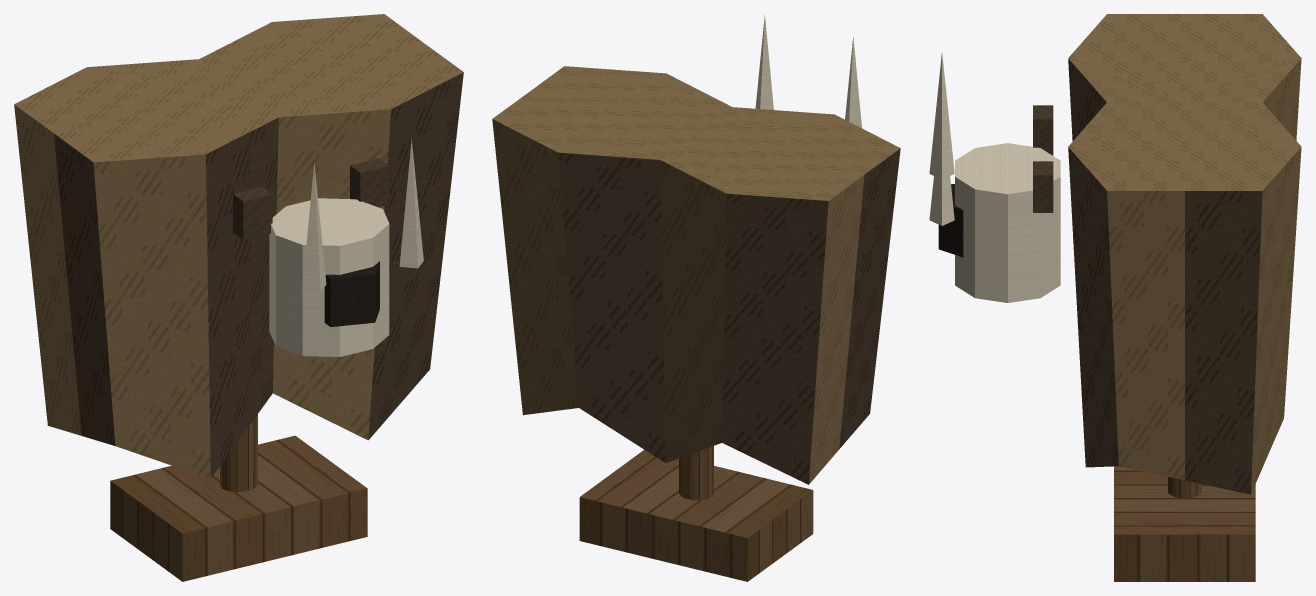
File: ae_raid_trophy_pelt_lod0.glb
3 renders of one model, left to right at view 1: azimuth 30°, elevation 25°; view 2: azimuth 150°, elevation 25°; view 3: azimuth 270°, elevation 25°, orthographic. The views are drawn at different scales.
Parts seen in each view (by area): view 1: ae_raid_trophy_pelt_lod0; view 2: ae_raid_trophy_pelt_lod0; view 3: ae_raid_trophy_pelt_lod0.
Part boxes in pixels (left/top/right/bottom): ae_raid_trophy_pelt_lod0: left=14, top=14, right=463, bottom=581; ae_raid_trophy_pelt_lod0: left=492, top=15, right=900, bottom=581; ae_raid_trophy_pelt_lod0: left=929, top=14, right=1301, bottom=581.
Bounding box in the file's own units: 0.9001 × 1.1 × 0.8.
Materials: 1 (1 with a texture image).
